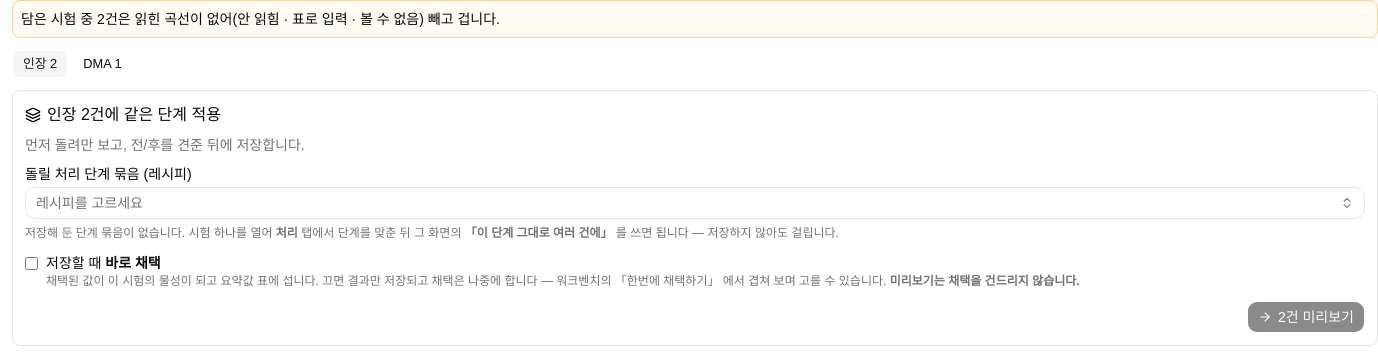
Scenario: 한 번에 처리 › 종류마다 판을 세우고, 그 종류의 레시피만 묻는다
The image size is (1378, 363).
Expected: the heading "인장 2건에 같은 단계 적용" is shown, x1=25 y1=106 x2=221 y2=123
Click the button "DMA 1".
click(102, 64)  # box x1=72 y1=50 x2=133 y2=78
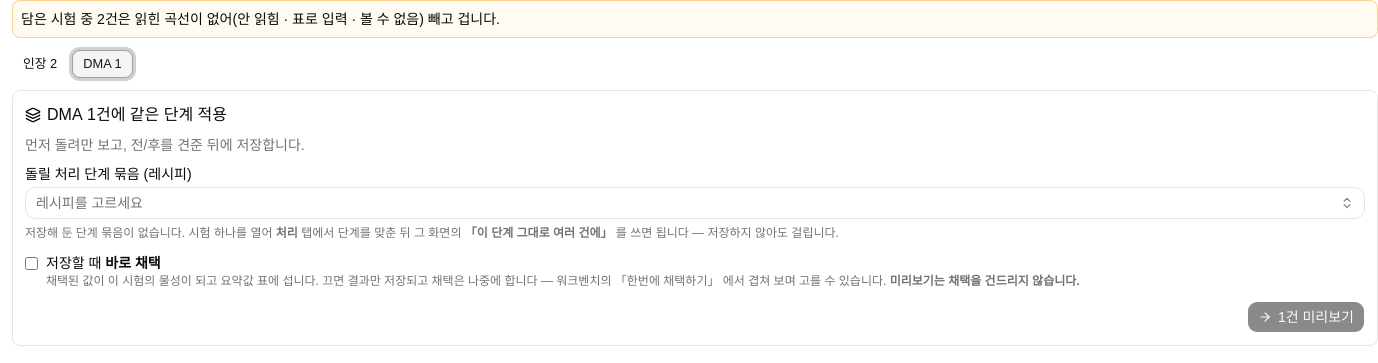
Expected: the heading "DMA 1건에 같은 단계 적용" is shown, x1=25 y1=106 x2=227 y2=123
